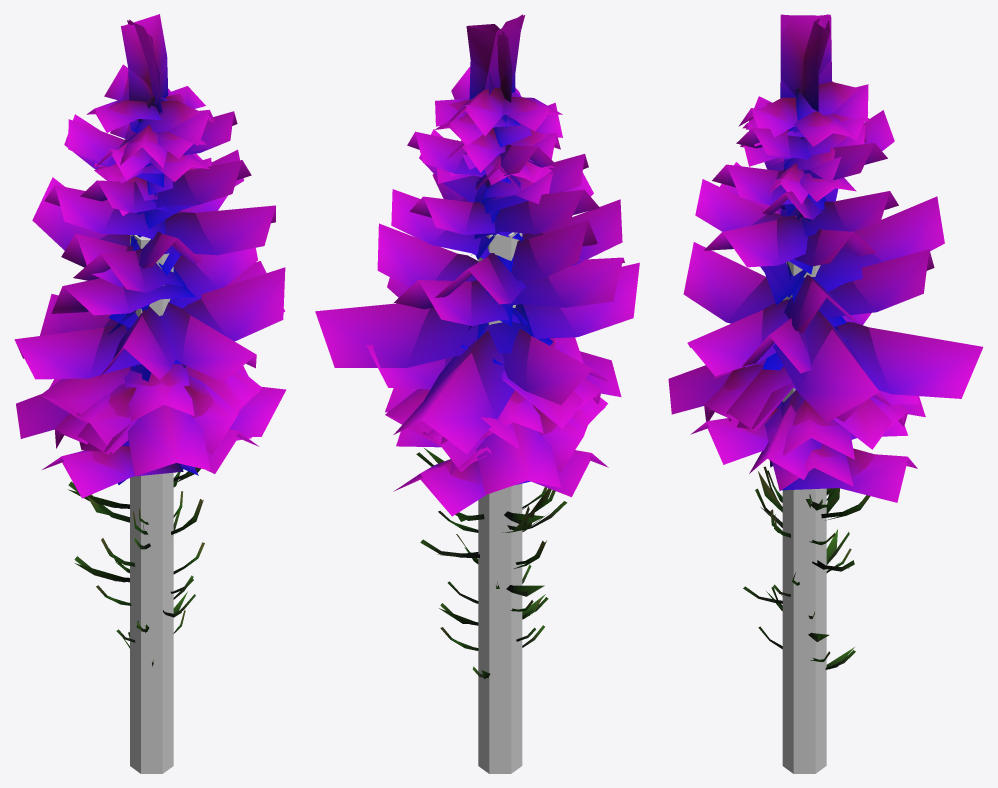
File: pine_radiata_small.dae
The picture shows the model from 3 angles, left to right: view 1: azimuth 30°, elevation 25°; view 2: azimuth 150°, elevation 25°; view 3: azimuth 270°, elevation 25°; orthographic projection.
Visible parts, largest first — view 1: pine_radiata_small_a170, pine_radiata_small_a420, Colmesh_pine_radiata_small-1; view 2: pine_radiata_small_a170, pine_radiata_small_a420, Colmesh_pine_radiata_small-1; view 3: pine_radiata_small_a170, pine_radiata_small_a420, Colmesh_pine_radiata_small-1.
Part boxes in pixels (x1,y1,x2,y2): pine_radiata_small_a170: (15,14,285,648); pine_radiata_small_a420: (14,14,285,666); Colmesh_pine_radiata_small-1: (130,235,173,773); pine_radiata_small_a170: (315,14,639,678); pine_radiata_small_a420: (315,15,639,677); Colmesh_pine_radiata_small-1: (478,232,522,773); pine_radiata_small_a170: (668,15,982,669); pine_radiata_small_a420: (675,14,983,669); Colmesh_pine_radiata_small-1: (782,261,826,773).
Bounding box in the file's own units: 3.45 × 3.58 × 9.36.
